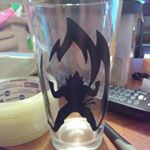cups: (20, 1, 128, 150)
